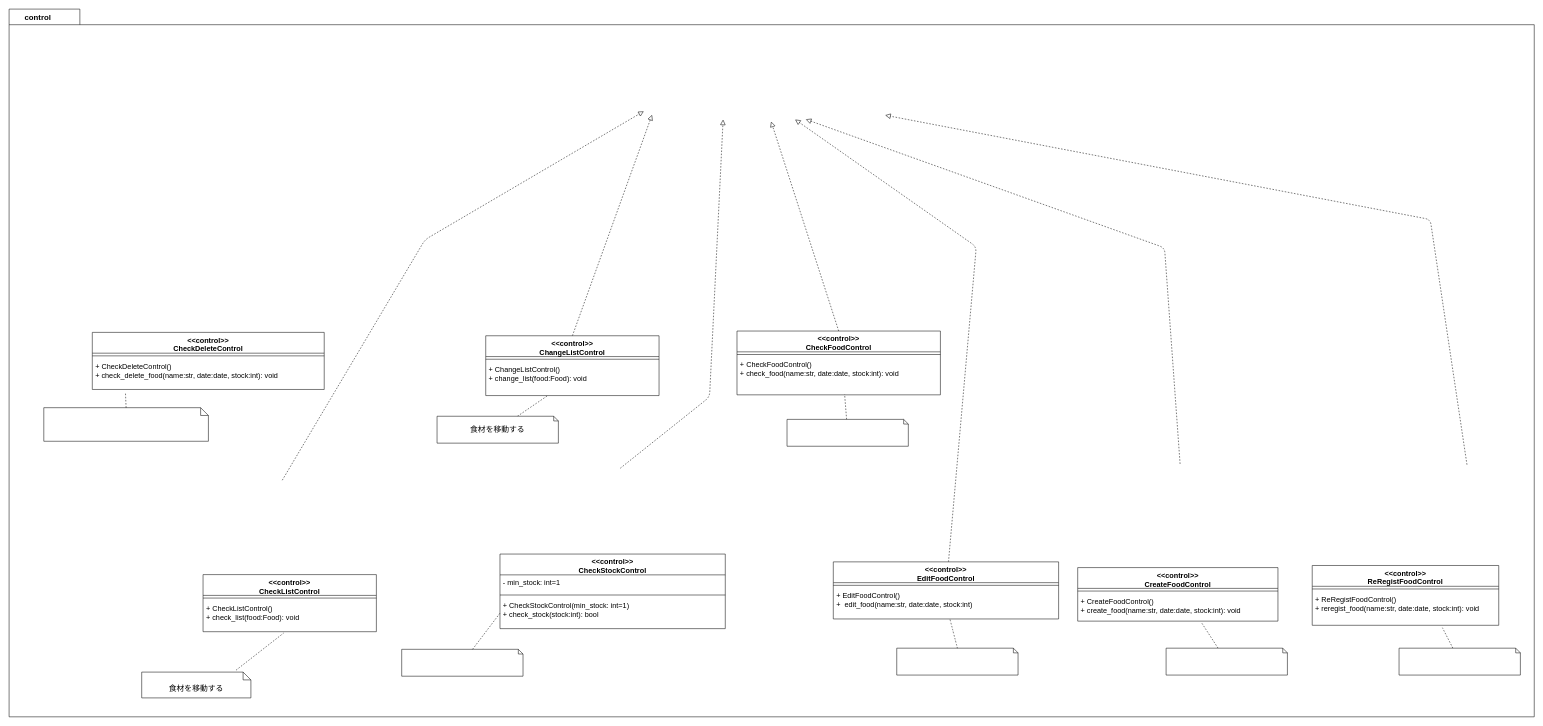
Some shapes in this 1543 by 726 pixel diagram are drawn without their labels. The centre of each missing label's shape, as x and y in pixels:
在庫数を確認する: the point at 462,662
消去内容を確認する: the point at 125,424
登録内容を確認する: the point at 847,432
食材を再登録する: the point at 1459,661
食材を登録する: the point at 1226,661
食材を編集する: the point at 957,661
